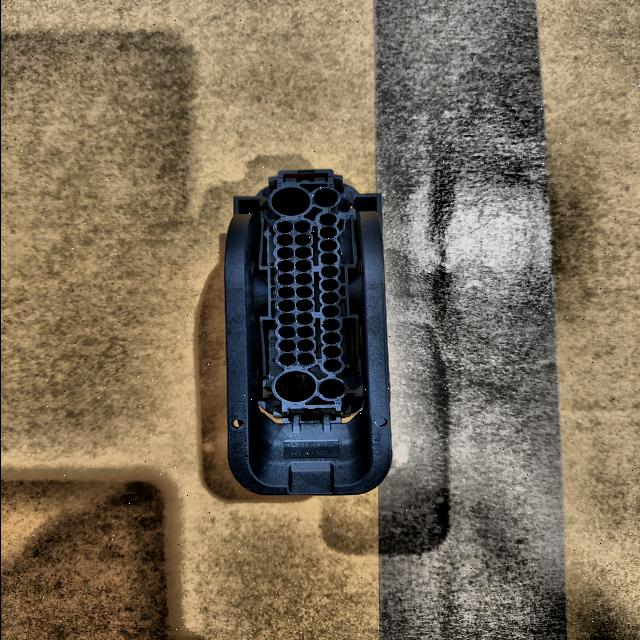P38: (222, 169, 391, 496)
